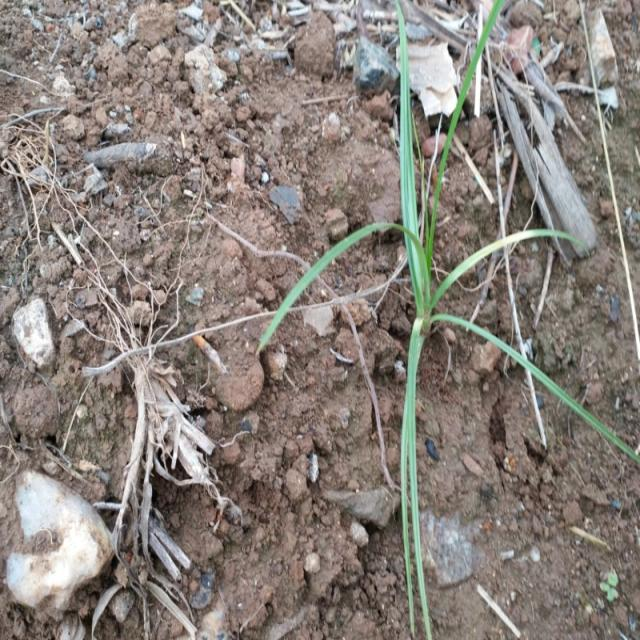sedge: (291, 38, 606, 605)
